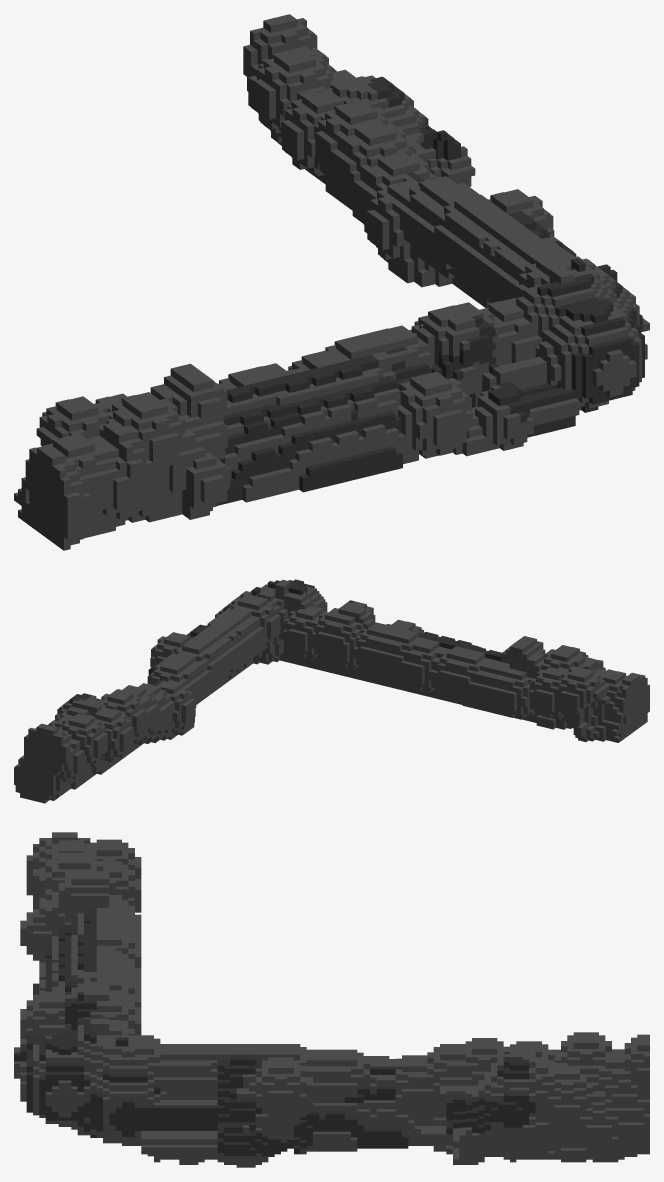
The model's file is Medieval Assets-234-Transition - Elevated Region Corner.obj.
The picture shows the model from 3 angles, top to bottom: view 1: azimuth 30°, elevation 25°; view 2: azimuth 150°, elevation 25°; view 3: azimuth 270°, elevation 25°; orthographic projection. The views are drawn at different scales.
Visible parts, largest first — view 1: Transition - Elevated Region Corner; view 2: Transition - Elevated Region Corner; view 3: Transition - Elevated Region Corner.
Boxes of the visible parts, x1,y1,x2,y2 form: Transition - Elevated Region Corner: [14, 14, 649, 550]; Transition - Elevated Region Corner: [14, 579, 649, 803]; Transition - Elevated Region Corner: [14, 832, 649, 1167].
Bounding box in the file's own units: 10 × 1.7 × 10.
Materials: 1 (1 with a texture image).
